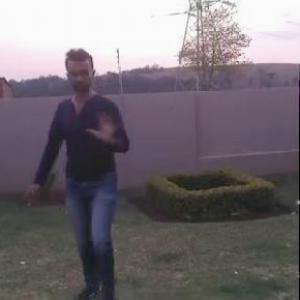follow_hand: (85, 109, 119, 142)
